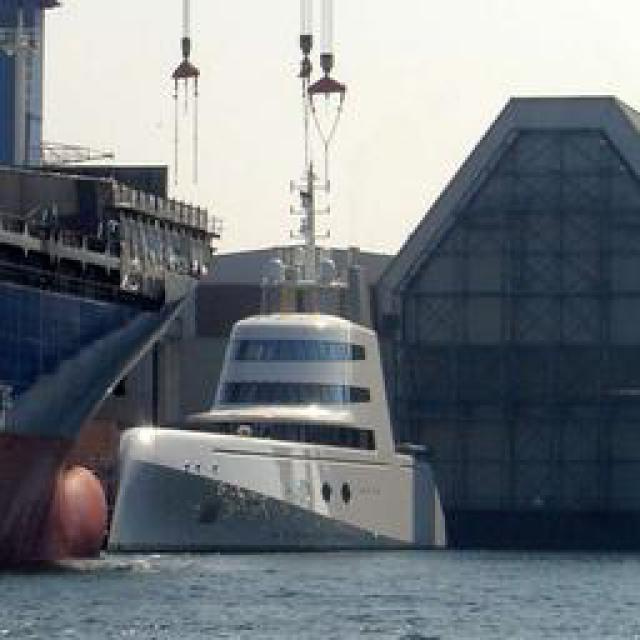Ship: (116, 264, 446, 557)
